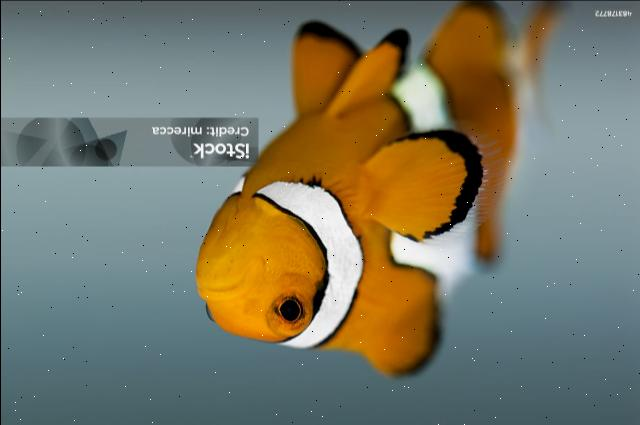Mulut: (170, 251, 270, 309)
Sirip Dada: (343, 122, 527, 260)
Sirip Perut: (271, 11, 424, 123)
Sirip Punggung: (344, 226, 522, 412)
